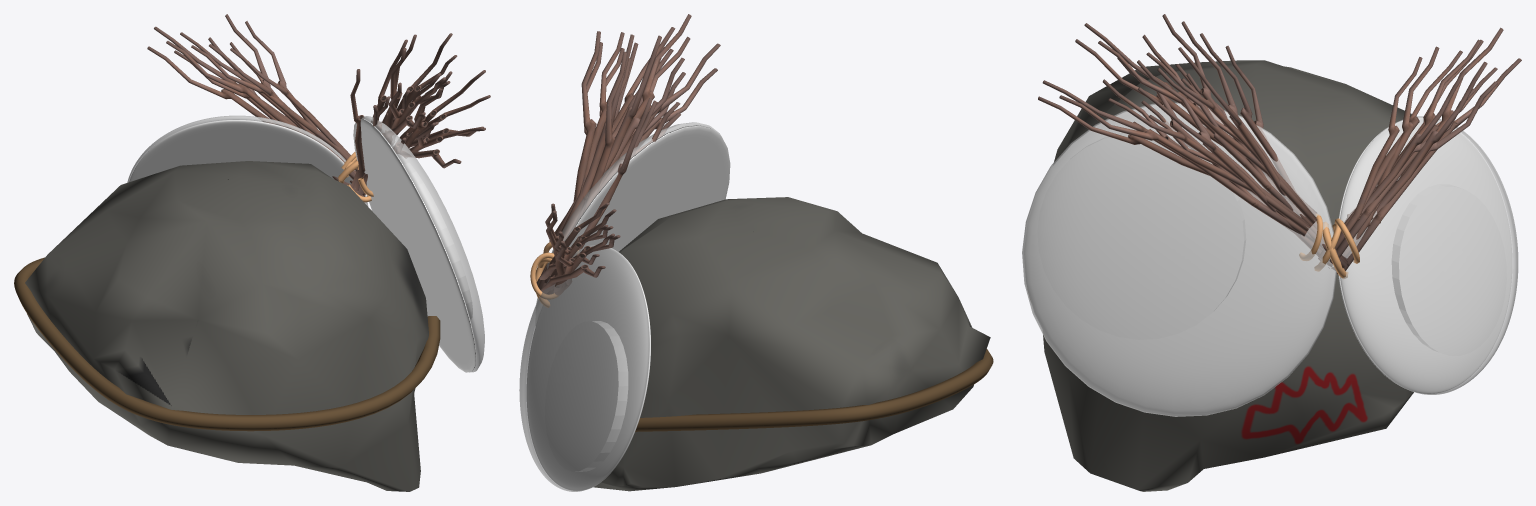
Rendered from PetrockEvil_Alive_v2 (1).fbx.
3 views of the same model, side by side, from view 1: azimuth 30°, elevation 25°; view 2: azimuth 150°, elevation 25°; view 3: azimuth 270°, elevation 25° (orthographic). The views are drawn at different scales.
Parts seen in each view (by area): view 1: PetRock_mesh.002, Cylinder.010, Bakhlid_L.002, NurbsPath.009, Bakhlid_R.002, Gler_L.002, Cylinder.005, Gler_R.002, NurbsPath.007; view 2: PetRock_mesh.002, Gler_R.002, Cylinder.010, Bakhlid_R.002, Bakhlid_L.002, Cylinder.004, NurbsPath.009, Gler_L.002, NurbsPath.007; view 3: Gler_L.002, PetRock_mesh.002, Gler_R.002, Bakhlid_L.002, Cylinder.005, Cylinder.010, Bakhlid_R.002, Cylinder.004, NurbsPath.007.
Boxes of the visible parts, bbox=[...] form: PetRock_mesh.002: bbox=[25, 161, 428, 491]; Cylinder.010: bbox=[147, 14, 490, 196]; Bakhlid_L.002: bbox=[353, 118, 476, 372]; NurbsPath.009: bbox=[14, 257, 440, 431]; Bakhlid_R.002: bbox=[129, 120, 365, 203]; Gler_L.002: bbox=[362, 116, 484, 372]; Cylinder.005: bbox=[397, 154, 472, 319]; Gler_R.002: bbox=[127, 115, 368, 206]; NurbsPath.007: bbox=[338, 152, 373, 202]; PetRock_mesh.002: bbox=[593, 197, 990, 491]; Gler_R.002: bbox=[519, 245, 649, 491]; Cylinder.010: bbox=[536, 14, 720, 295]; Bakhlid_R.002: bbox=[527, 248, 650, 490]; Bakhlid_L.002: bbox=[542, 125, 730, 305]; Cylinder.004: bbox=[545, 321, 627, 471]; NurbsPath.009: bbox=[635, 349, 993, 431]; Gler_L.002: bbox=[535, 122, 720, 325]; NurbsPath.007: bbox=[530, 242, 578, 307]; Gler_L.002: bbox=[1022, 102, 1336, 416]; PetRock_mesh.002: bbox=[1043, 60, 1413, 491]; Gler_R.002: bbox=[1340, 116, 1518, 394]; Bakhlid_L.002: bbox=[1024, 103, 1335, 414]; Cylinder.005: bbox=[1037, 133, 1245, 339]; Cylinder.010: bbox=[1038, 14, 1521, 274]; Bakhlid_R.002: bbox=[1338, 118, 1511, 393]; Cylinder.004: bbox=[1392, 184, 1506, 355]; NurbsPath.007: bbox=[1299, 214, 1359, 278].
Bounding box in the file's own units: 384 × 404 × 380.
7 materials, 2 textured.
